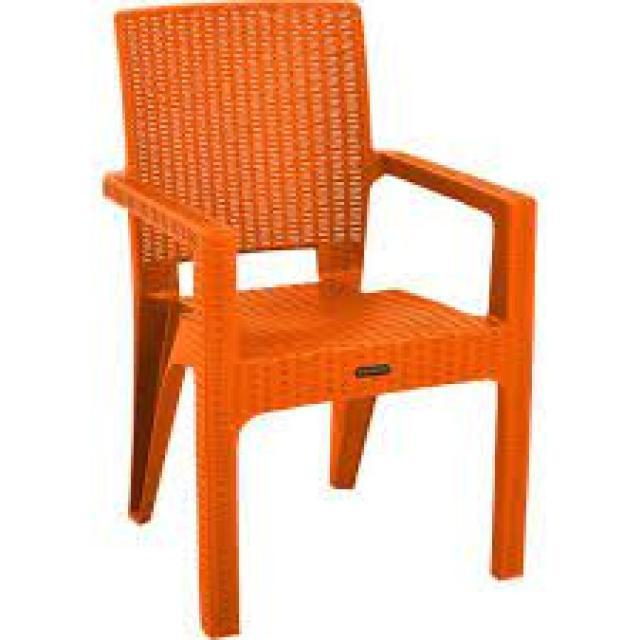chair: (95, 2, 572, 640)
